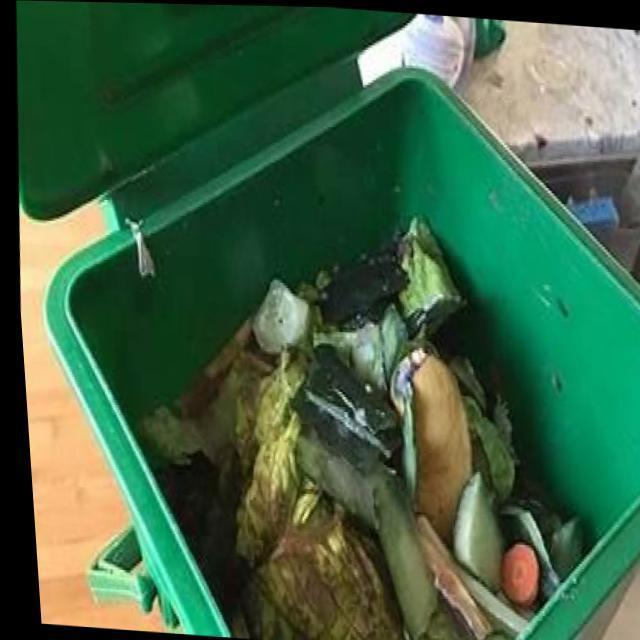Garbage: (130, 215, 510, 640)
